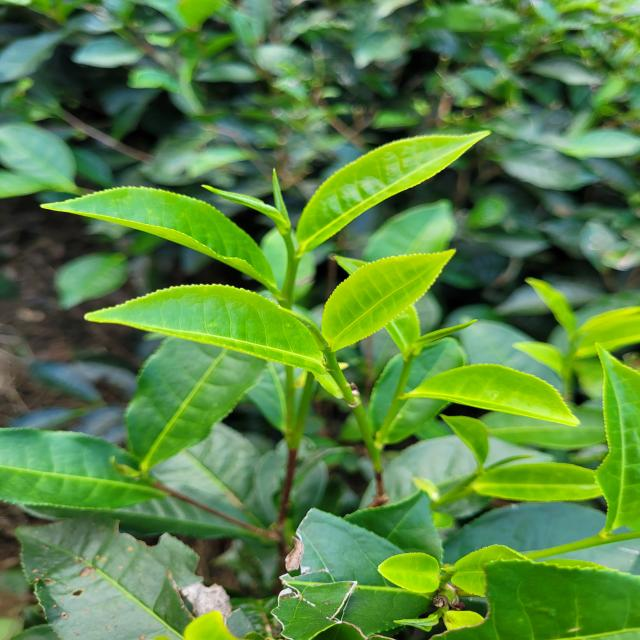Catagory A(1-2 days): (286, 104, 497, 256), (307, 241, 463, 359)
